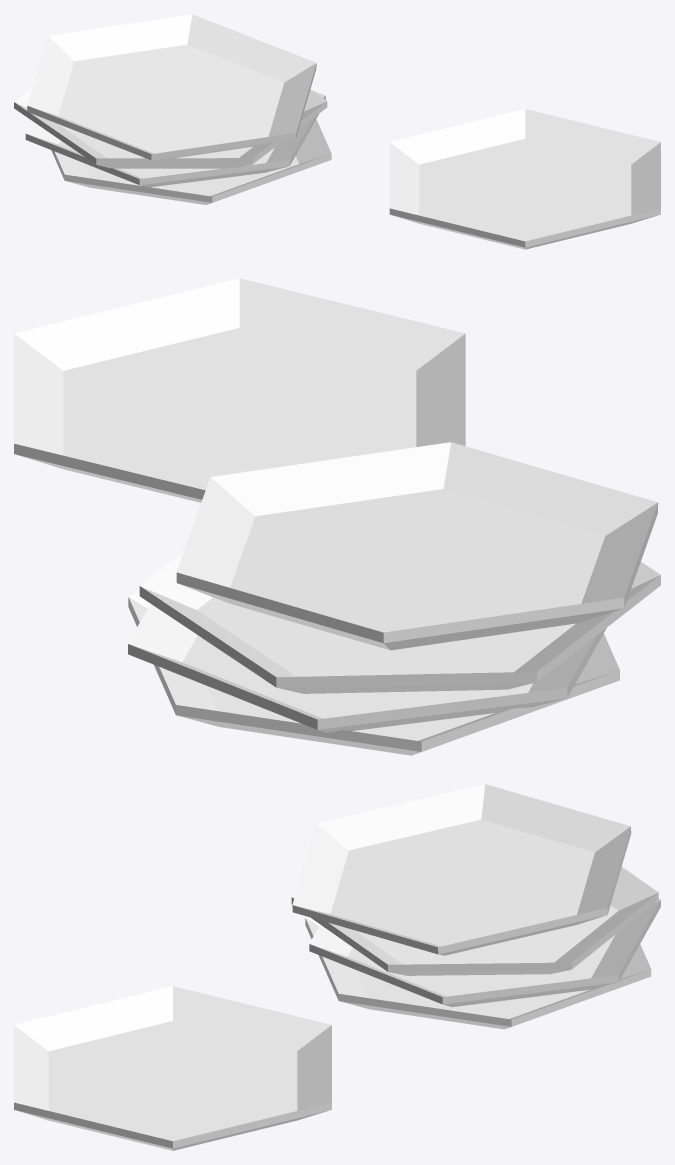
Rendered from plates.fbx.
3 views of the same model, one above another, from view 1: azimuth 30°, elevation 25°; view 2: azimuth 150°, elevation 25°; view 3: azimuth 270°, elevation 25° (orthographic). The views are drawn at different scales.
Visible parts, largest first — view 1: pCylinder2, pCylinder1, pCylinder4, pCylinder3, pCylinder5; view 2: pCylinder1, pCylinder2, pCylinder3, pCylinder5, pCylinder4; view 3: pCylinder2, pCylinder1, pCylinder3, pCylinder5, pCylinder4.
Part boxes in pixels (x1,y1,x2,y2): pCylinder2: [27, 14, 316, 160]; pCylinder1: [389, 109, 660, 249]; pCylinder4: [51, 119, 331, 204]; pCylinder3: [14, 88, 327, 168]; pCylinder5: [25, 90, 325, 187]; pCylinder1: [14, 278, 465, 502]; pCylinder2: [176, 442, 658, 650]; pCylinder3: [139, 551, 660, 693]; pCylinder5: [128, 536, 606, 732]; pCylinder4: [128, 592, 619, 755]; pCylinder2: [292, 784, 631, 955]; pCylinder1: [14, 986, 331, 1150]; pCylinder3: [291, 867, 658, 975]; pCylinder5: [309, 899, 660, 1007]; pCylinder4: [305, 916, 651, 1029].
Size of the model in its own units: 1.58 by 0.2663 by 1.51.
1 material, 1 textured.
